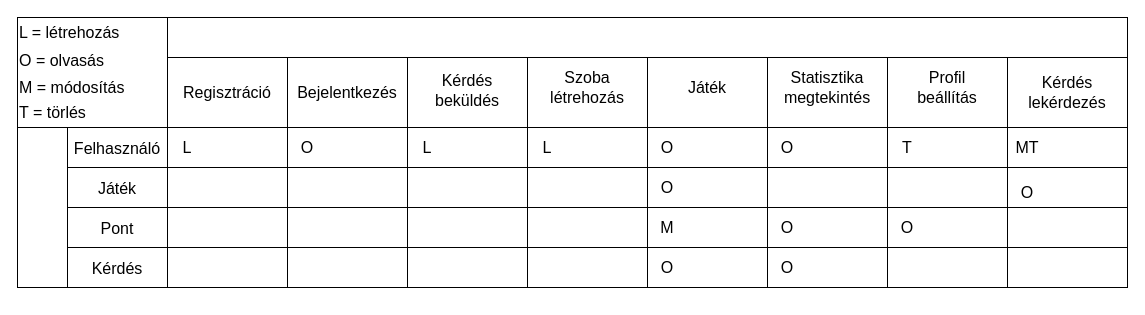
The diagram is 1145 pixels wide and 315 high, and some of its shapes have lost their labels. Each missing label, with the centre of its shape:
"Egyed" belongs at (42,207).
"Események" belongs at (647,37).
